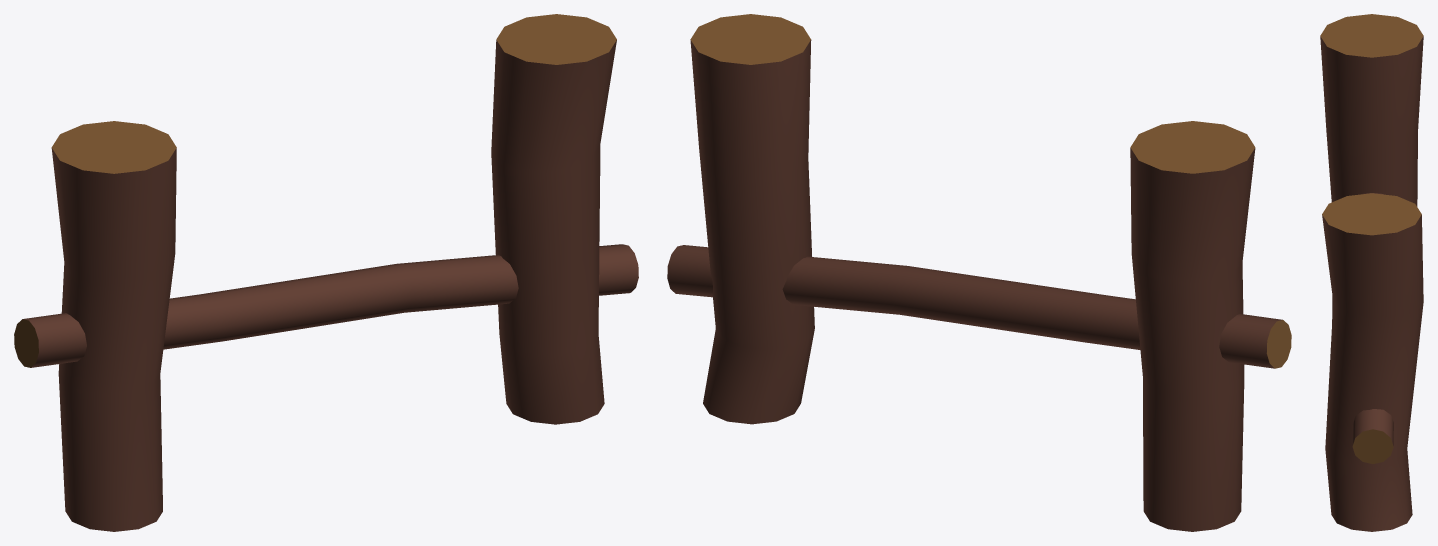
The model's file is WoodRoundFence_Damaged2.fbx.
3 views of the same model, side by side, from view 1: azimuth 30°, elevation 25°; view 2: azimuth 150°, elevation 25°; view 3: azimuth 270°, elevation 25° (orthographic). The views are drawn at different scales.
Visible parts, largest first — view 1: WoodRoundFence_Damaged2; view 2: WoodRoundFence_Damaged2; view 3: WoodRoundFence_Damaged2.
Boxes of the visible parts, x1,y1,x2,y2 form: WoodRoundFence_Damaged2: (14, 14, 638, 531); WoodRoundFence_Damaged2: (667, 14, 1291, 531); WoodRoundFence_Damaged2: (1320, 14, 1423, 531).
Bounding box in the file's own units: 302 × 174 × 54.2.
